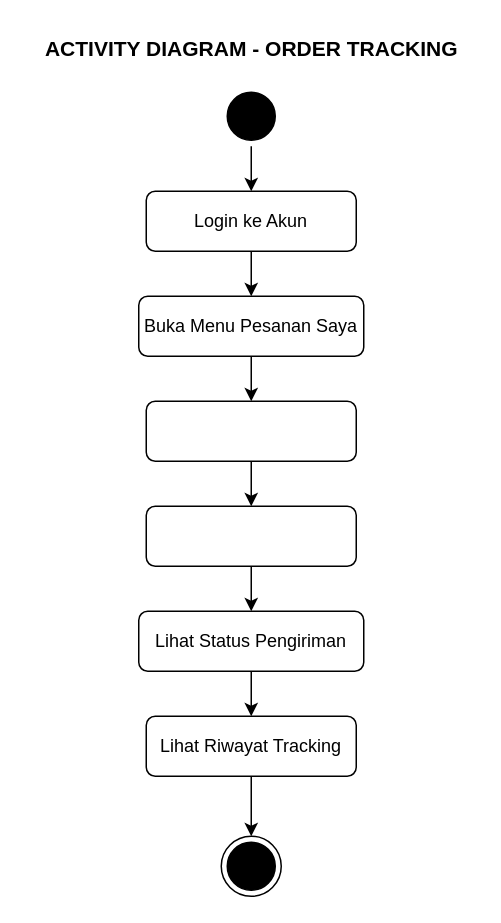
The diagram is 501 pixels wide and 923 high, and some of its shapes have lost their labels. Here are the shapes that lost their labels. From the top down, the centre of each, then its label:
the point at 250,430: Pilih Pesanan
the point at 250,535: Lihat Detail Pesanan
